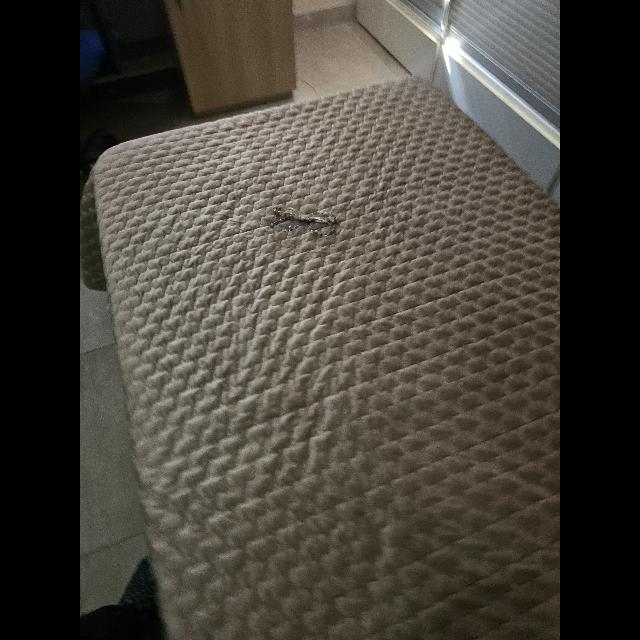glasses: (270, 206, 336, 236)
